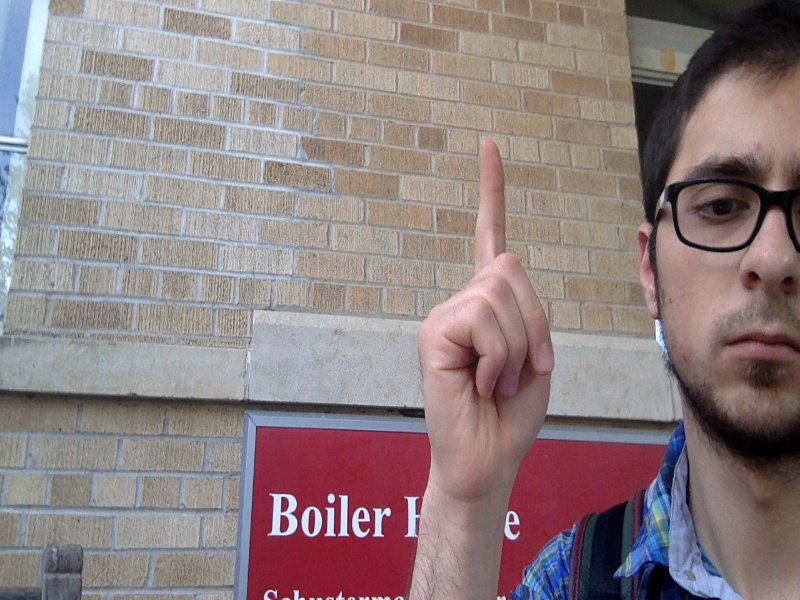1-hand: (420, 139, 555, 506)
